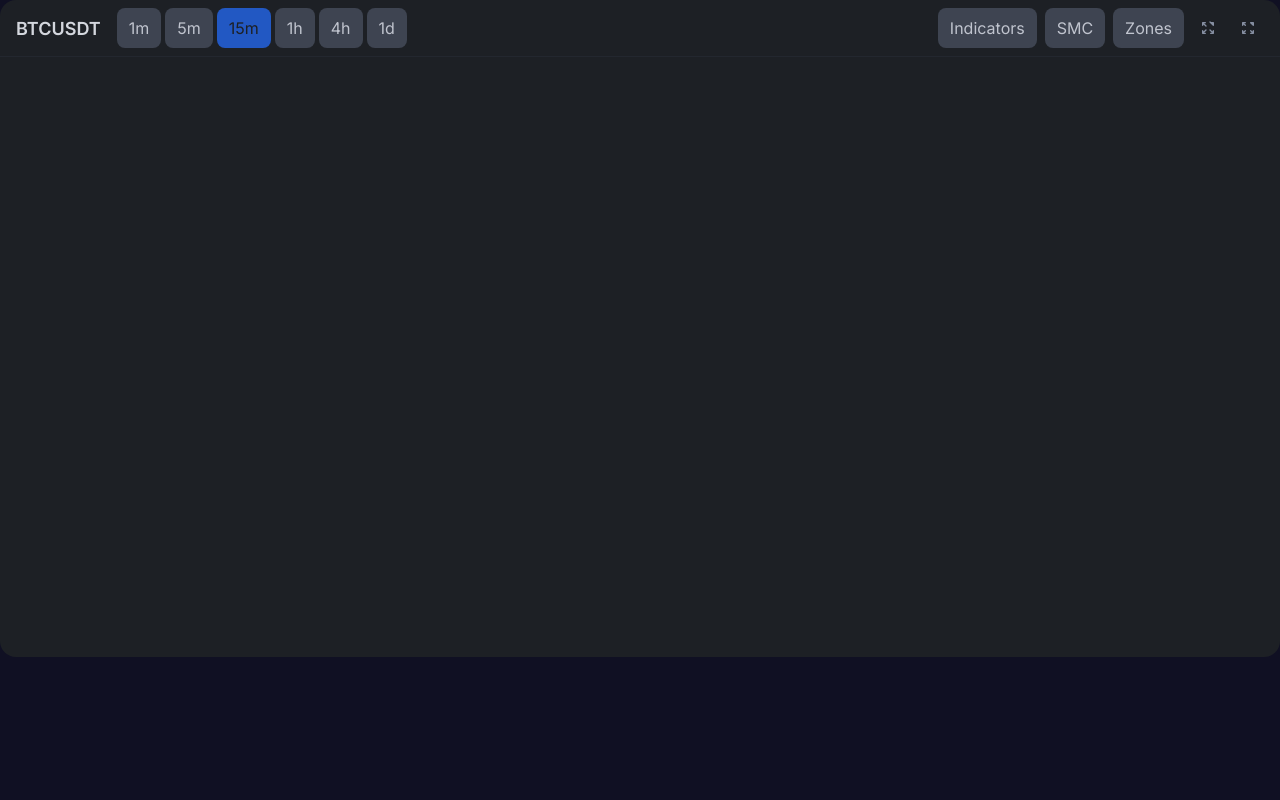
Test: Chart › indicator management › should toggle indicator visibility
Click the button with test id "indicator-panel-toggle" at (987, 28), box [938,8,1037,48]
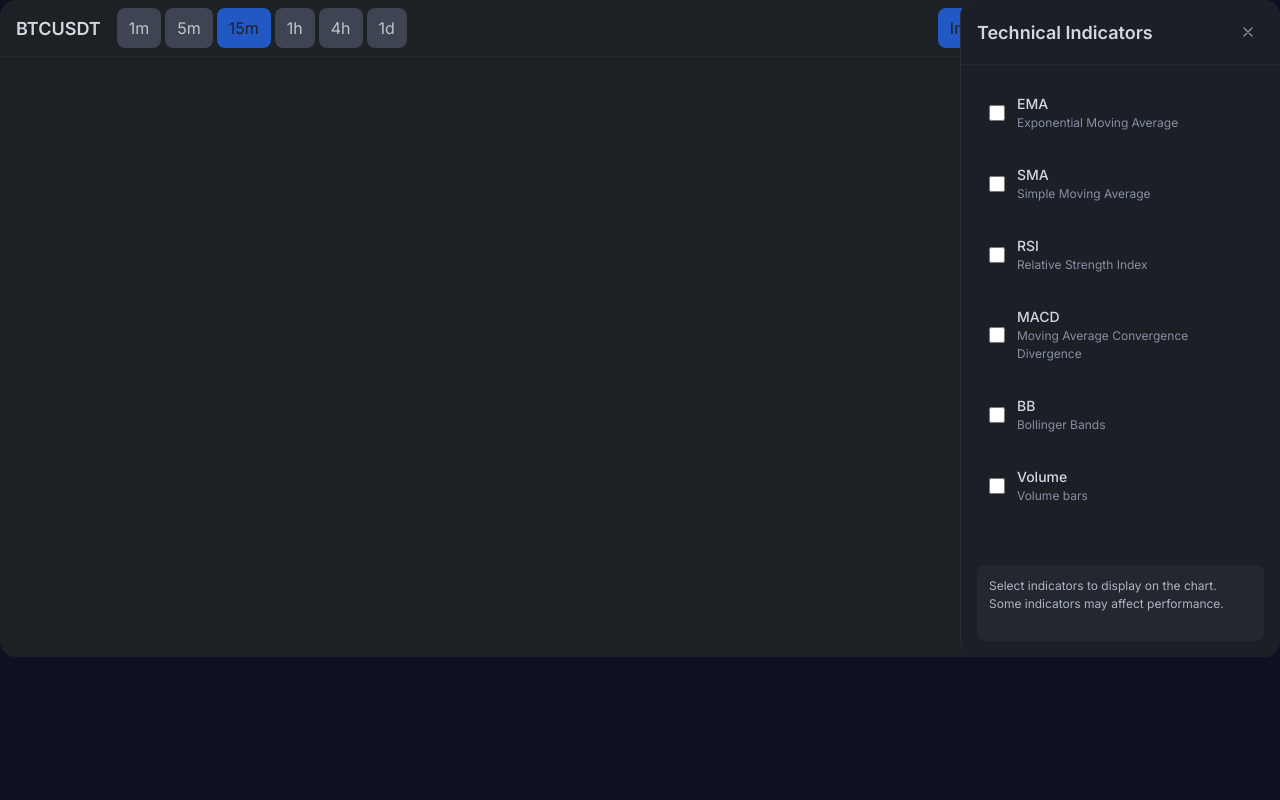
Expected: the dialog with test id "indicator-panel" is shown, [960,0,1279,657]
